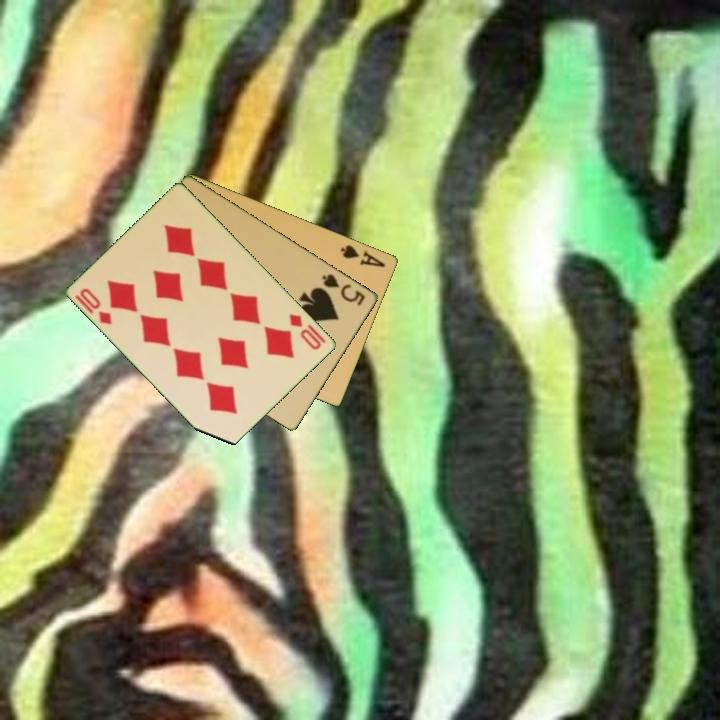10d: (72, 284, 116, 328), (286, 310, 329, 353)
5s: (318, 270, 368, 309)
As: (337, 241, 388, 270)
